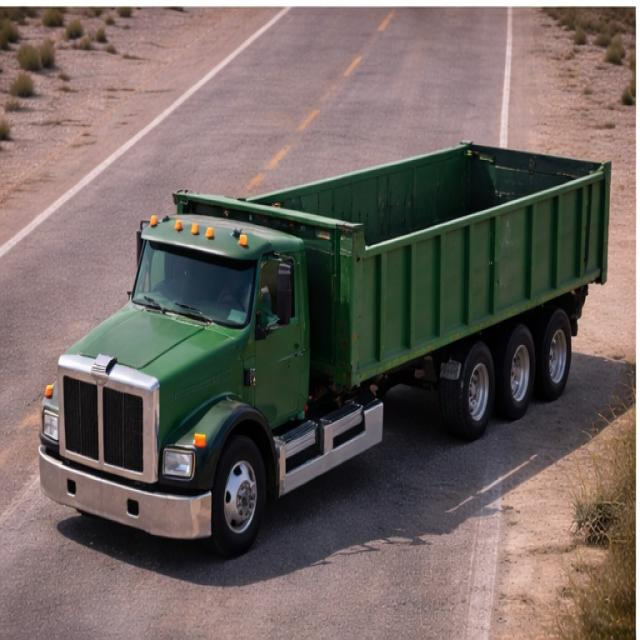Box: (166, 136, 612, 250)
Truck: (31, 105, 618, 547)
